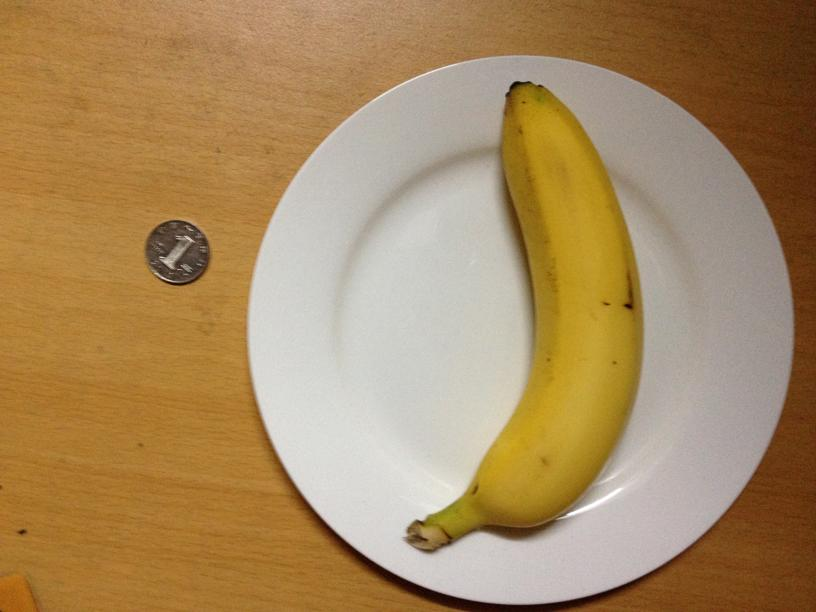banana: (414, 83, 643, 540)
coin: (145, 216, 210, 282)
